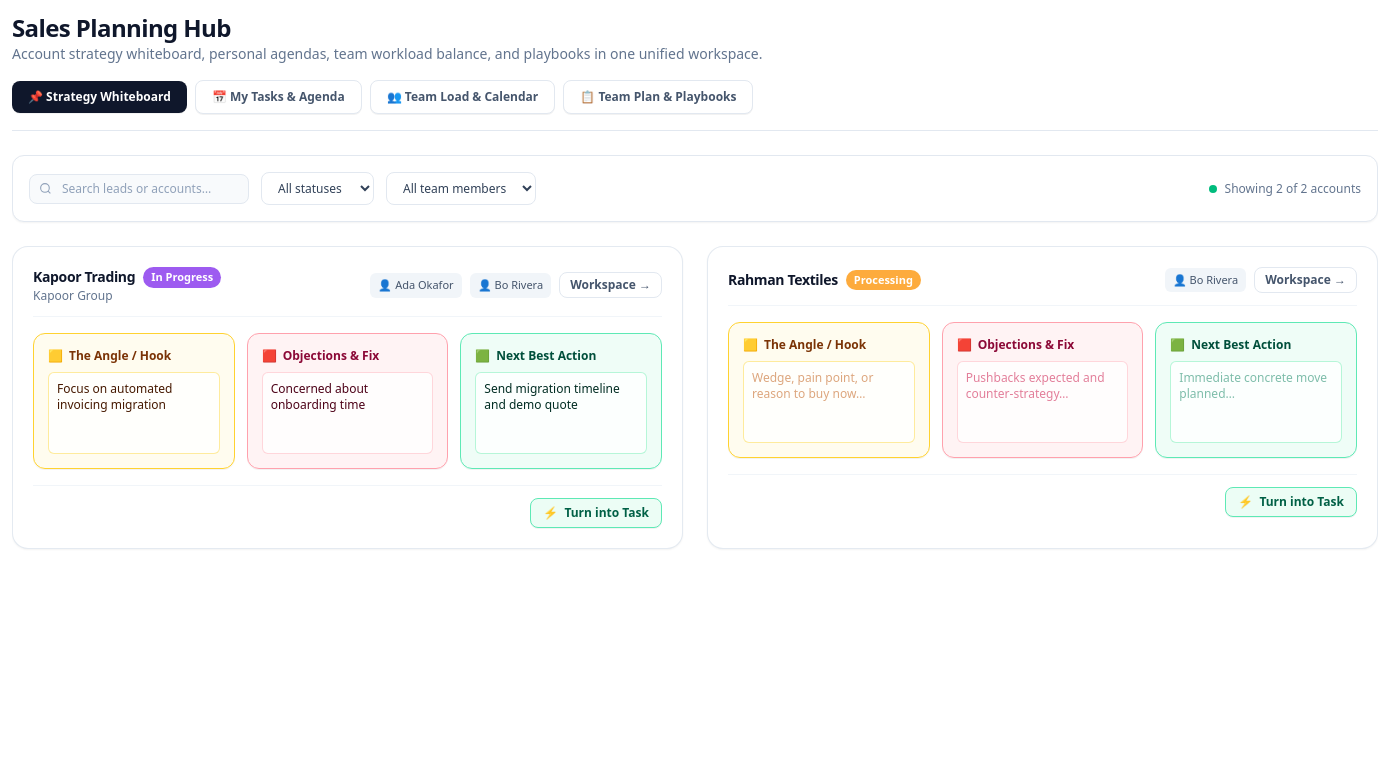
Test: TeamPlanningPage › offers this company’s own statuses in the whiteboard status filter, in picker order
Select "Processing" in the dropdown named "filter by status". click: (318, 188)
box: [261,172,374,205]
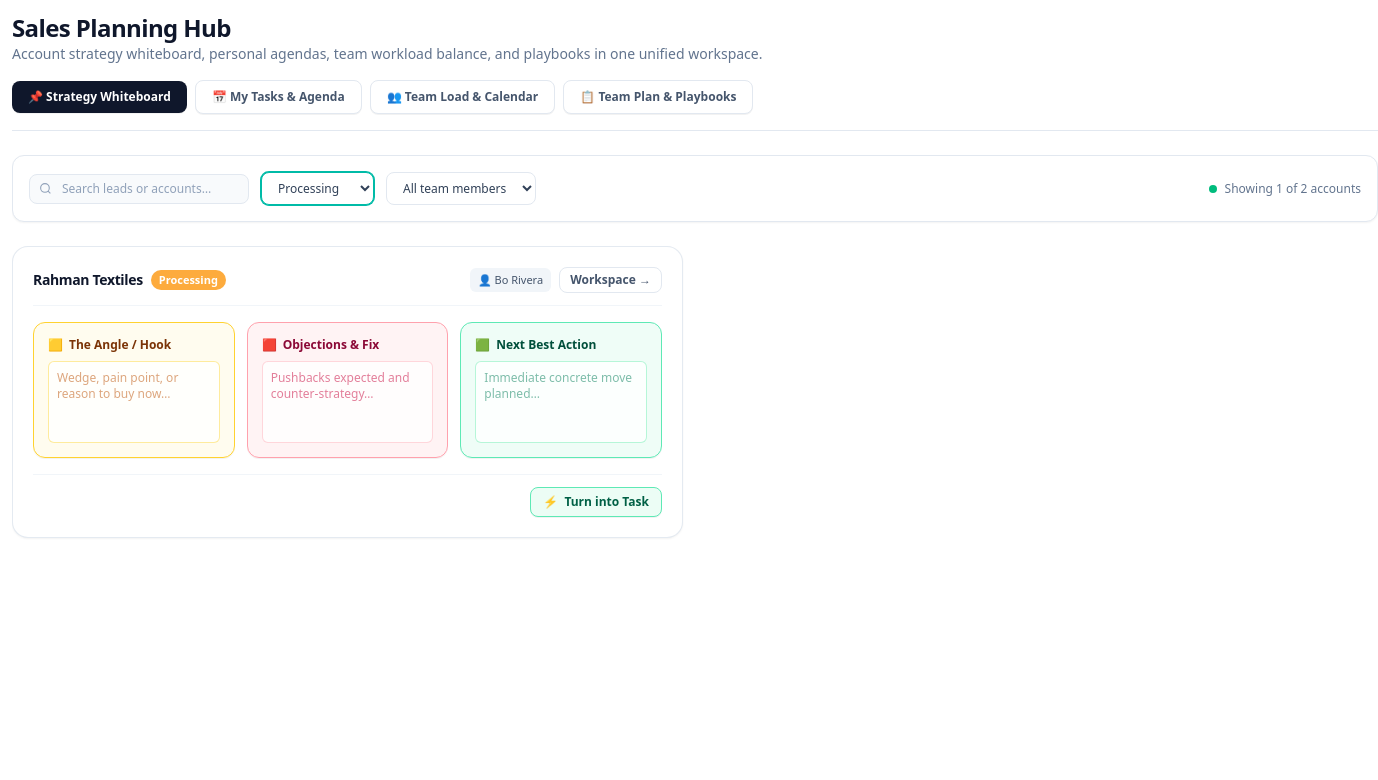
Check: the button "Rahman Textiles" is shown, box [33,270,143,290]
Check: the button "Kapoor Trading" is gone
